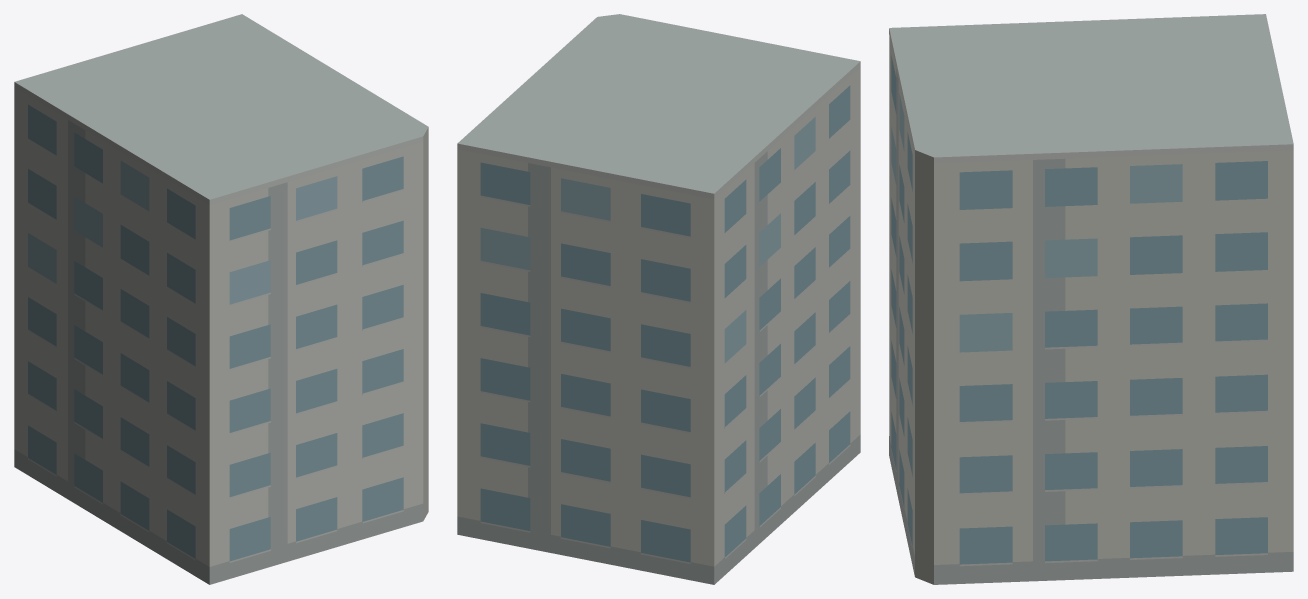
File: survey-upis-32625715.glb
3 renders of one model, left to right at view 1: azimuth 30°, elevation 25°; view 2: azimuth 150°, elevation 25°; view 3: azimuth 270°, elevation 25°, orthographic. The views are drawn at different scales.
Parts seen in each view (by area): view 1: survey-upis-32625715.tmp; view 2: survey-upis-32625715.tmp; view 3: survey-upis-32625715.tmp.
Part boxes in pixels (bbox=[...]): survey-upis-32625715.tmp: bbox=[14, 14, 428, 584]; survey-upis-32625715.tmp: bbox=[457, 14, 860, 584]; survey-upis-32625715.tmp: bbox=[889, 14, 1293, 584].
Bounding box in the file's own units: 12.21 × 16.95 × 14.55.
